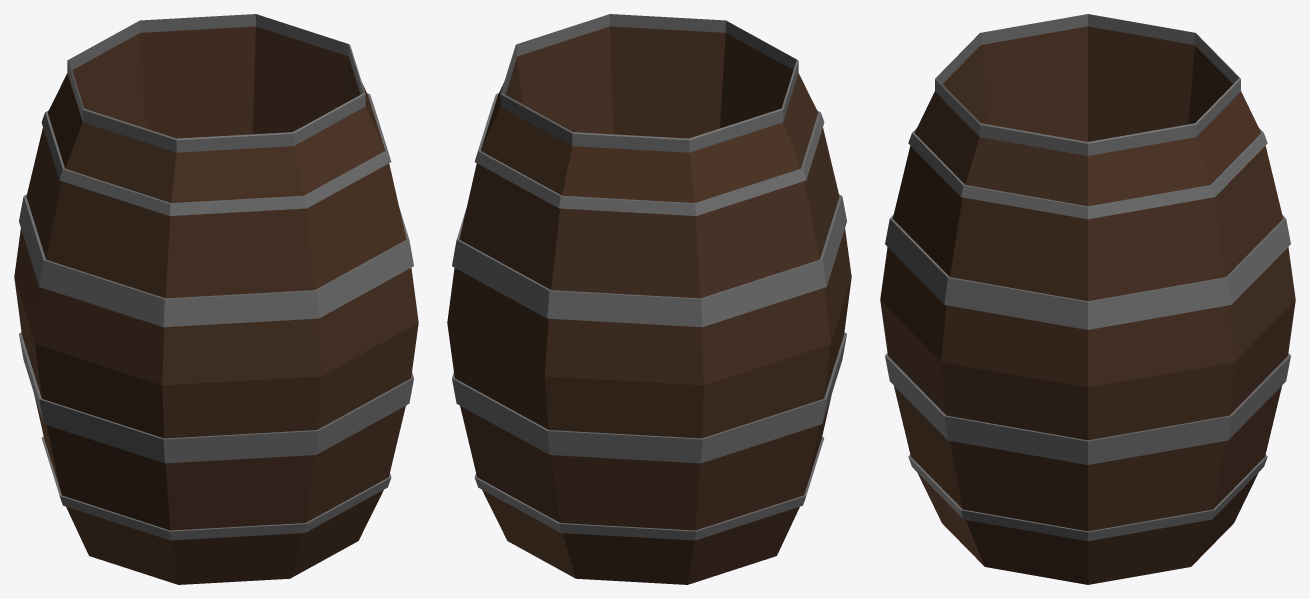
Rendered from Barrel_Only.fbx.
3 renders of one model, left to right at view 1: azimuth 30°, elevation 25°; view 2: azimuth 150°, elevation 25°; view 3: azimuth 270°, elevation 25°, orthographic.
Visible parts, largest first — view 1: Cylinder.005; view 2: Cylinder.005; view 3: Cylinder.005.
Boxes of the visible parts, x1,y1,x2,y2 form: Cylinder.005: [14, 14, 418, 584]; Cylinder.005: [447, 14, 851, 584]; Cylinder.005: [880, 14, 1295, 584].
Size of the model in its own units: 211 by 249 by 211.
